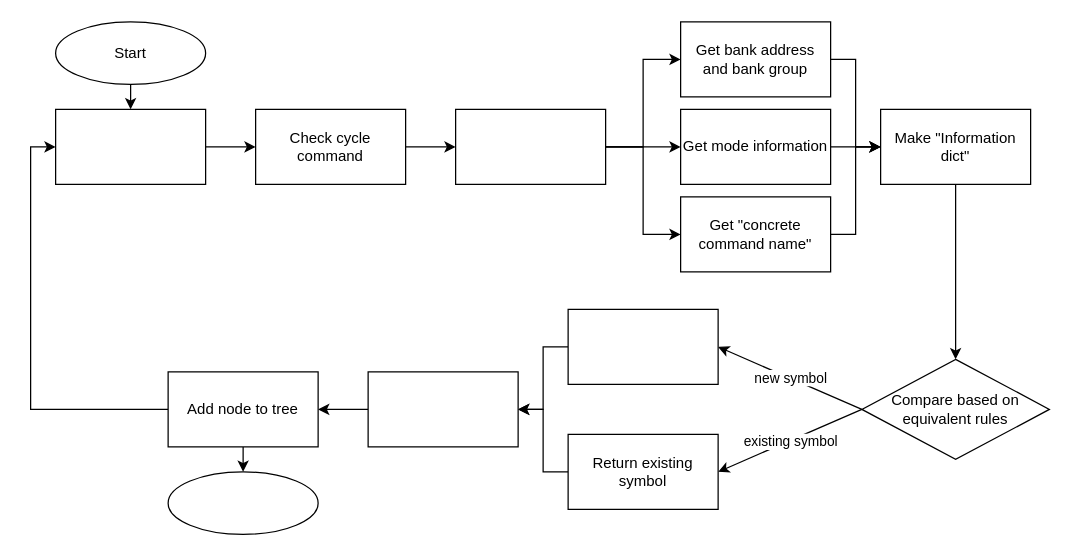
Some shapes in this 1071 by 556 pixel diagram are drawn without their labels. Each missing label, with the centre of its shape:
Check command type and stroe pin values: point 530,146
End: point 242,502
Read cycle: point 130,146
Return new symbol: point 642,346
Store "Information dict" and "Symbol" to "Symbol map": point 442,409
